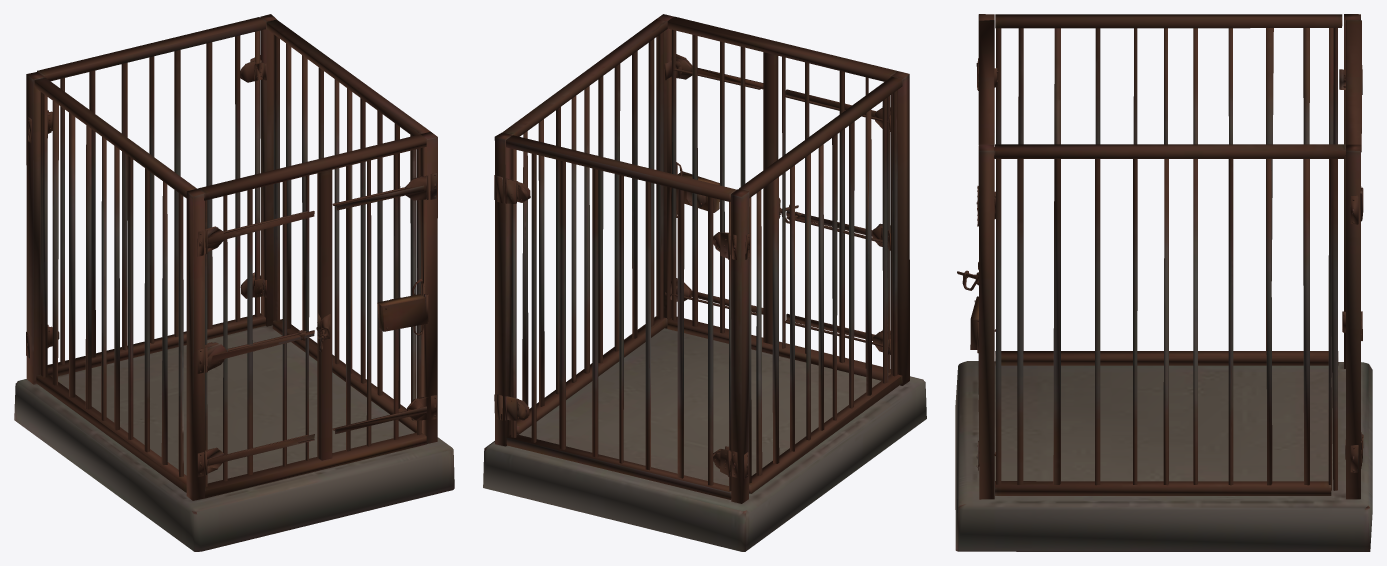
File: cage.glb
The picture shows the model from 3 angles, left to right: view 1: azimuth 30°, elevation 25°; view 2: azimuth 150°, elevation 25°; view 3: azimuth 270°, elevation 25°; orthographic projection. The views are drawn at different scales.
Size of the model in its own units: 0.7554 by 0.9526 by 0.9073.
1 material, 1 textured.
